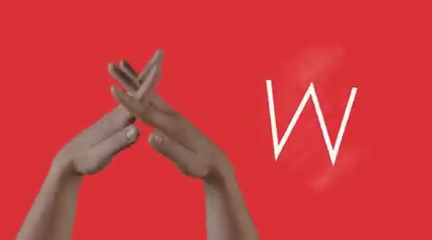W: (59, 44, 222, 190)
